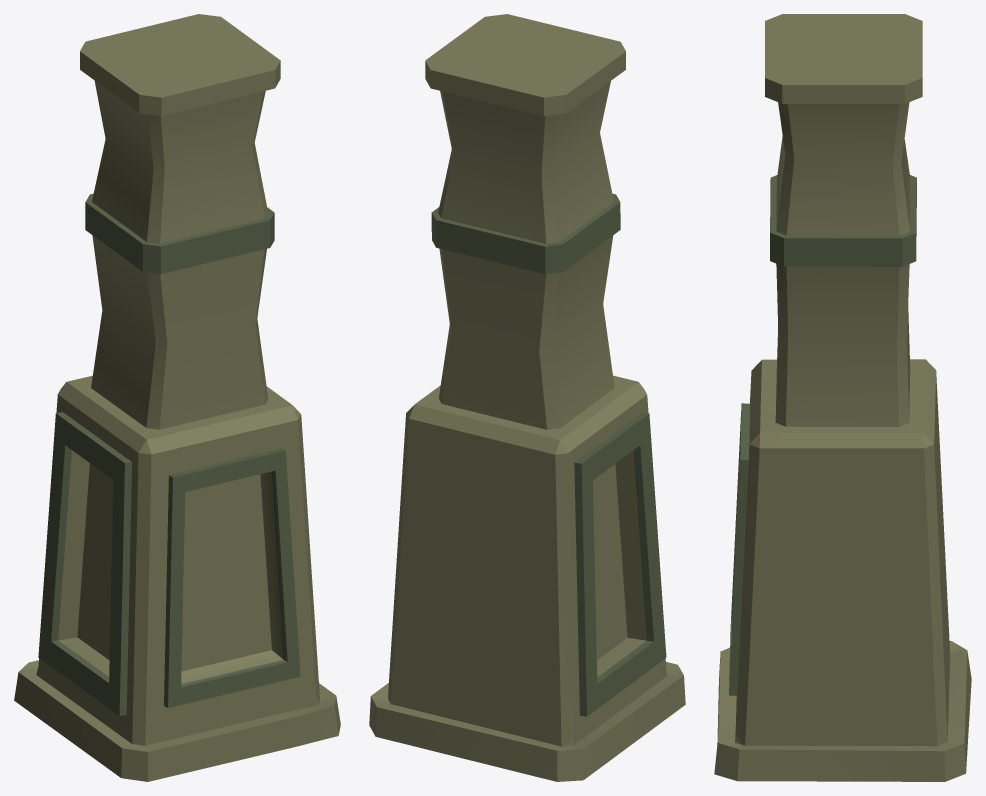
The model's file is ark_fast_leg.fbx.
The picture shows the model from 3 angles, left to right: view 1: azimuth 30°, elevation 25°; view 2: azimuth 150°, elevation 25°; view 3: azimuth 270°, elevation 25°; orthographic projection. The views are drawn at different scales.
Visible parts, largest first — view 1: ark_fast_legs; view 2: ark_fast_legs; view 3: ark_fast_legs.
Part boxes in pixels (x1,y1,x2,y2): ark_fast_legs: (14, 14, 340, 781); ark_fast_legs: (369, 14, 685, 781); ark_fast_legs: (714, 14, 971, 781).
Bounding box in the file's own units: 1.44 × 4.13 × 1.41.
